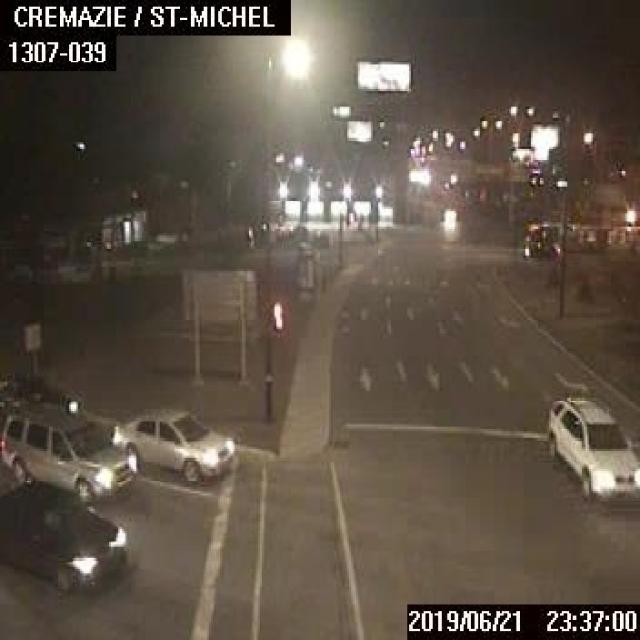bus: (522, 218, 638, 252)
vehicle: (0, 479, 125, 593), (0, 404, 135, 502), (544, 393, 638, 498), (111, 408, 233, 479), (0, 371, 78, 416), (522, 240, 559, 256)
